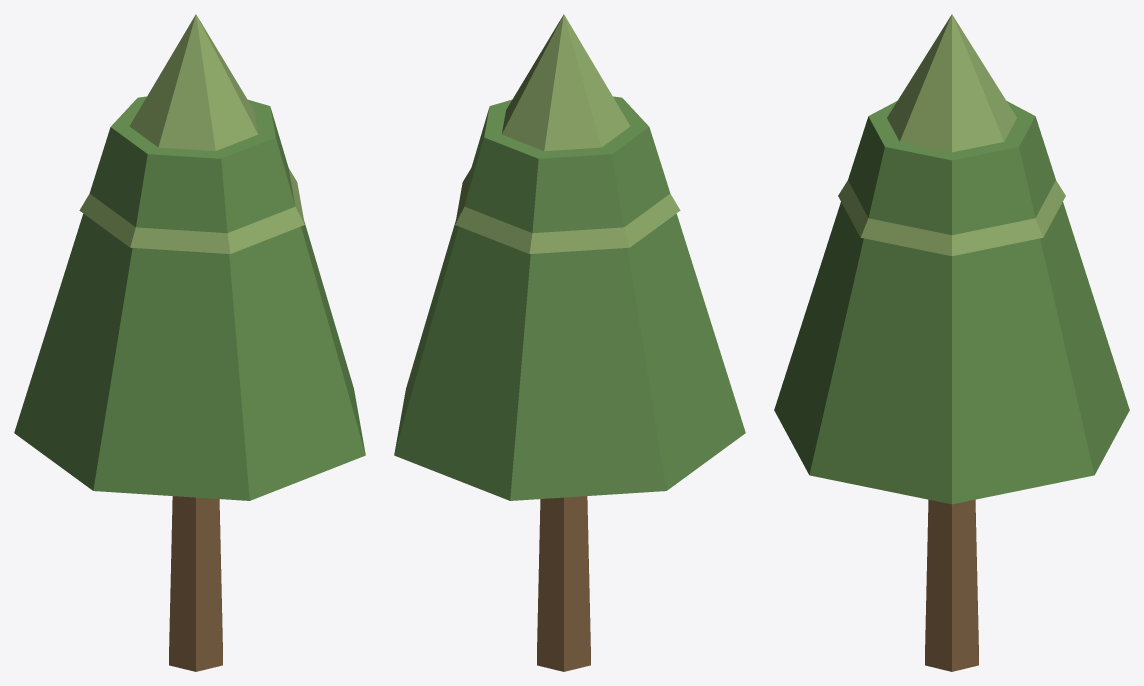
File: tree_deciduous_02.glb
3 renders of one model, left to right at view 1: azimuth 30°, elevation 25°; view 2: azimuth 150°, elevation 25°; view 3: azimuth 270°, elevation 25°, orthographic.
Bounding box in the file's own units: 2.22 × 4.56 × 2.28.
